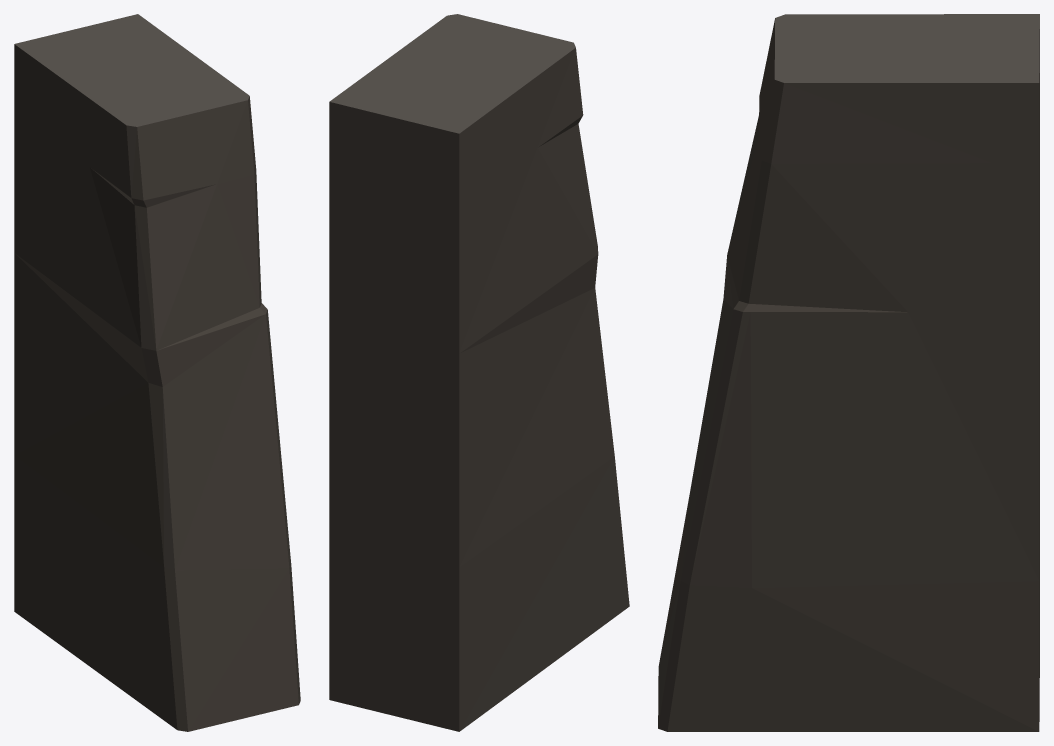
The model's file is MCastle_MasonryFixtures_02.FBX.
3 views of the same model, side by side, from view 1: azimuth 30°, elevation 25°; view 2: azimuth 150°, elevation 25°; view 3: azimuth 270°, elevation 25° (orthographic). The views are drawn at different scales.
Parts seen in each view (by area): view 1: MCastle_MasonrySupports_02_LOD0; view 2: MCastle_MasonrySupports_02_LOD0; view 3: MCastle_MasonrySupports_02_LOD0.
Boxes of the visible parts, bbox=[...] form: MCastle_MasonrySupports_02_LOD0: bbox=[14, 14, 300, 731]; MCastle_MasonrySupports_02_LOD0: bbox=[329, 14, 629, 731]; MCastle_MasonrySupports_02_LOD0: bbox=[658, 14, 1039, 731].
Size of what is drawn, in the model's own units: 1.08 by 4.43 by 2.36.
